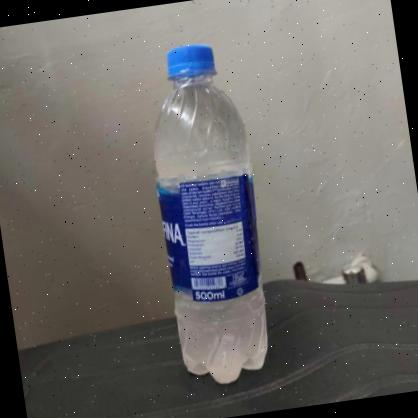bottle: (133, 36, 280, 374)
cap: (164, 41, 220, 88)
label: (157, 173, 266, 304)
